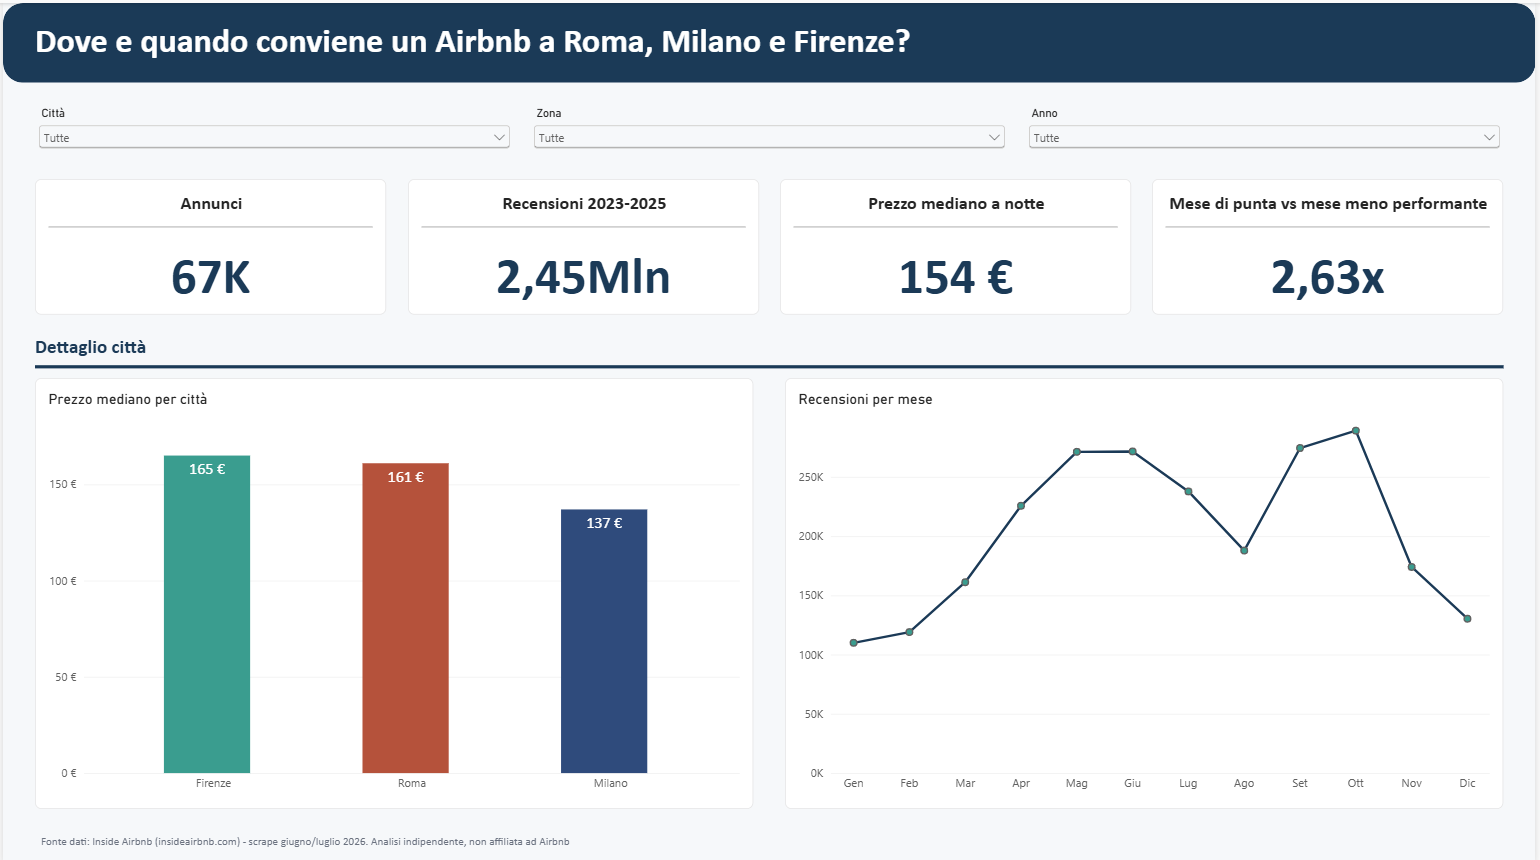

The dashboard page shown, as its layout file describes it:
{"tool":"powerbi","page":{"name":"Overview","canvas":[1920,1080],"ordinal":1},"visuals":[{"type":"shape","box":[0,0,1920,100],"z":0},{"type":"textbox","box":[40,20,1840,60],"z":1000},{"type":"textbox","box":[48,1040,1200,32],"z":2000},{"type":"card","title":"Annunci","fields":{"Values":["_Measures.Listings"]},"box":[40,220,440,170],"z":2002},{"type":"card","title":"Recensioni 2023-2025","fields":{"Values":["_Measures.Reviews"]},"box":[507,220,440,170],"z":2003},{"type":"slicer","fields":{"Values":["listings_totale.city"]},"box":[40,130,600,70],"z":2004},{"type":"slicer","fields":{"Values":["listings_totale.zona"]},"box":[660,130,600,70],"z":2005},{"type":"slicer","fields":{"Values":["Calendar.Year"]},"box":[1280,130,600,70],"z":2006},{"type":"card","title":"Prezzo mediano a notte","fields":{"Values":["_Measures.Median Price"]},"box":[974,220,440,170],"z":2007},{"type":"card","title":"Mese di punta vs mese meno performante","fields":{"Values":["_Measures.Seasonality Ratio"]},"box":[1440,220,440,170],"z":2008},{"type":"columnChart","title":"Prezzo mediano per città","fields":{"Category":["listings_totale.city"],"Series":["listings_totale.city"],"Y":["_Measures.Median Price"]},"box":[40,470,900,540],"z":2009},{"type":"lineChart","title":"Recensioni per mese","fields":{"Category":["Calendar.Month Name"],"Y":["_Measures.Reviews"]},"box":[980,470,900,540],"z":2010},{"type":"textbox","box":[40,416,600,40],"z":2011},{"type":"shape","box":[40,450,1840,12],"z":2012}]}

Visuals, with their boxes in screenshot pixels (x1, y1, x2, y2), scaled from the page's 1920x1080 canvas onto the 1540x860 screenshot:
shape: {"x1": 0, "y1": 0, "x2": 1539, "y2": 80}
textbox: {"x1": 32, "y1": 16, "x2": 1508, "y2": 64}
textbox: {"x1": 38, "y1": 828, "x2": 1001, "y2": 854}
"Annunci" card: {"x1": 32, "y1": 175, "x2": 385, "y2": 311}
"Recensioni 2023-2025" card: {"x1": 407, "y1": 175, "x2": 760, "y2": 311}
slicer - listings_totale.city: {"x1": 32, "y1": 104, "x2": 513, "y2": 159}
slicer - listings_totale.zona: {"x1": 529, "y1": 104, "x2": 1011, "y2": 159}
slicer - Calendar.Year: {"x1": 1027, "y1": 104, "x2": 1508, "y2": 159}
"Prezzo mediano a notte" card: {"x1": 781, "y1": 175, "x2": 1134, "y2": 311}
"Mese di punta vs mese meno performante" card: {"x1": 1155, "y1": 175, "x2": 1508, "y2": 311}
"Prezzo mediano per città" columnChart: {"x1": 32, "y1": 374, "x2": 754, "y2": 804}
"Recensioni per mese" lineChart: {"x1": 786, "y1": 374, "x2": 1508, "y2": 804}
textbox: {"x1": 32, "y1": 331, "x2": 513, "y2": 363}
shape: {"x1": 32, "y1": 358, "x2": 1508, "y2": 368}
